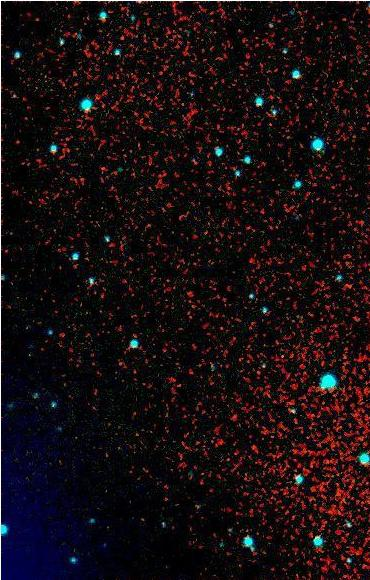star: (268, 340, 298, 370)
